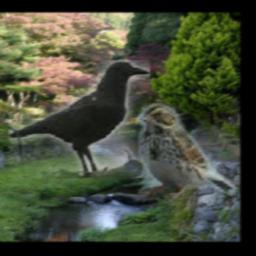Crow: (9, 60, 150, 178)
Sparrow: (137, 103, 235, 200)
